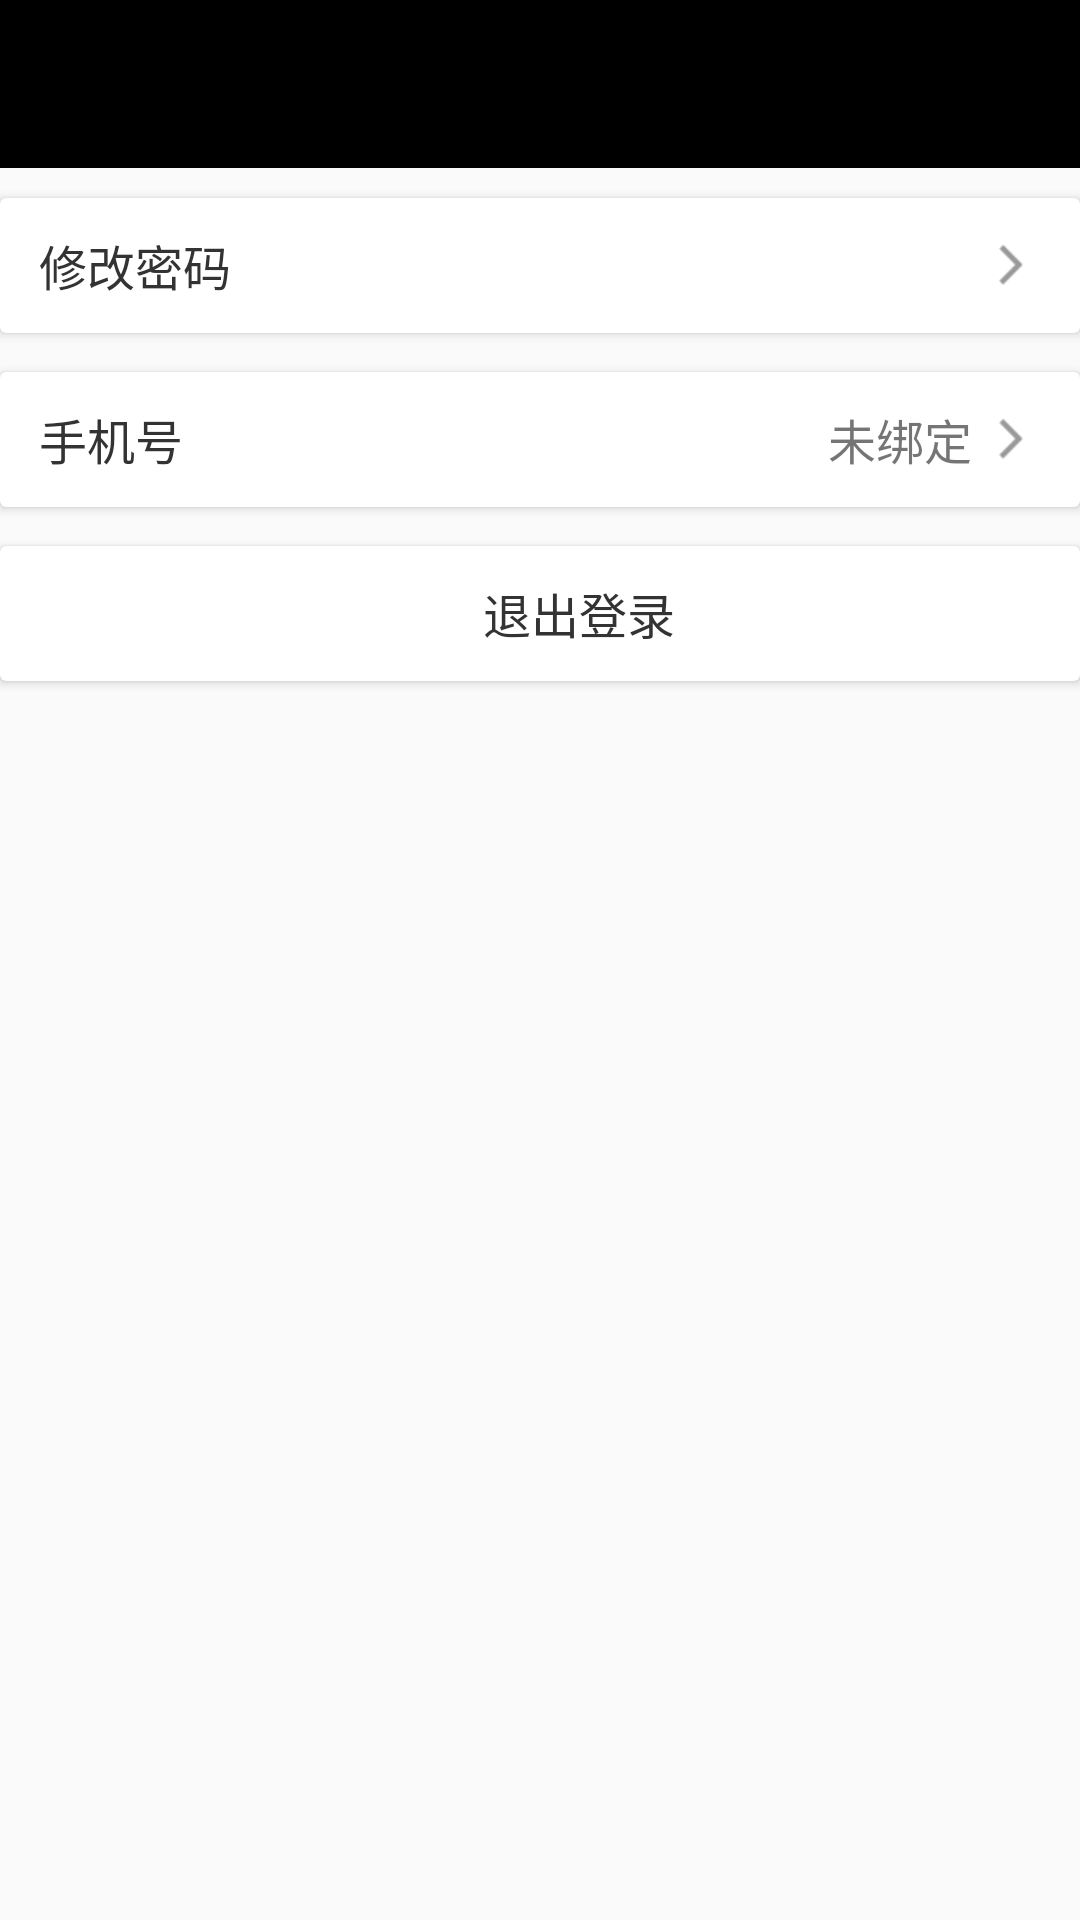

Point at icon controls on the screen. Image size 1080px x 1920px, points as point (x, y).
arrow right: point (1010, 265), point (1010, 439)
